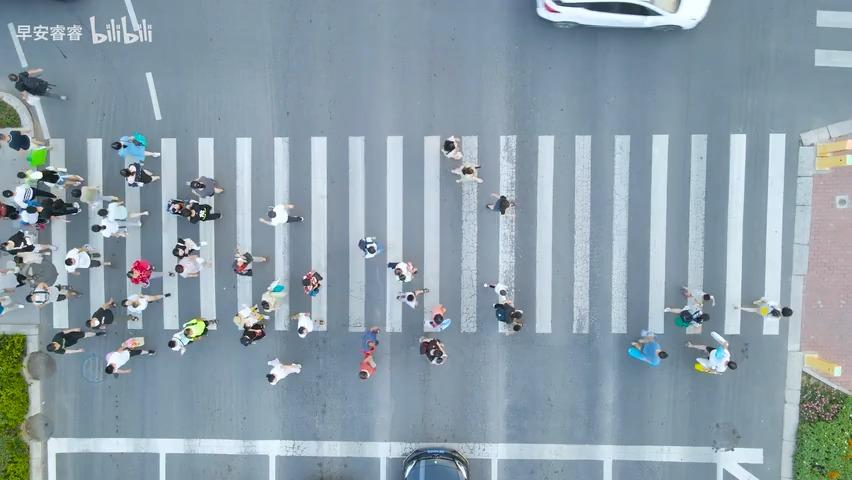Civilian: (684, 330, 737, 374), (483, 282, 524, 331), (8, 67, 67, 101), (104, 336, 155, 374), (167, 317, 218, 355), (110, 131, 160, 163), (232, 303, 269, 346), (46, 328, 106, 354), (627, 329, 668, 366), (16, 166, 84, 188), (63, 244, 111, 275), (23, 199, 80, 225), (25, 281, 82, 307), (120, 292, 171, 321), (3, 185, 62, 210), (166, 198, 221, 224), (732, 296, 793, 318), (663, 300, 710, 327), (0, 129, 53, 152), (3, 267, 44, 296), (358, 325, 380, 379), (97, 202, 152, 223), (84, 296, 117, 330), (258, 202, 303, 226), (119, 161, 160, 187), (231, 248, 269, 276), (265, 357, 301, 385), (9, 241, 52, 263), (174, 253, 211, 278), (88, 221, 134, 241), (1, 230, 35, 257), (418, 335, 448, 365), (260, 278, 286, 312), (186, 175, 224, 198), (126, 259, 155, 288), (680, 285, 715, 308), (424, 303, 451, 331), (396, 287, 429, 309), (387, 260, 418, 283), (485, 192, 517, 214), (450, 163, 483, 184), (240, 322, 266, 346), (290, 311, 313, 338), (172, 237, 202, 257), (440, 135, 463, 161), (301, 270, 322, 295), (358, 236, 378, 258)
